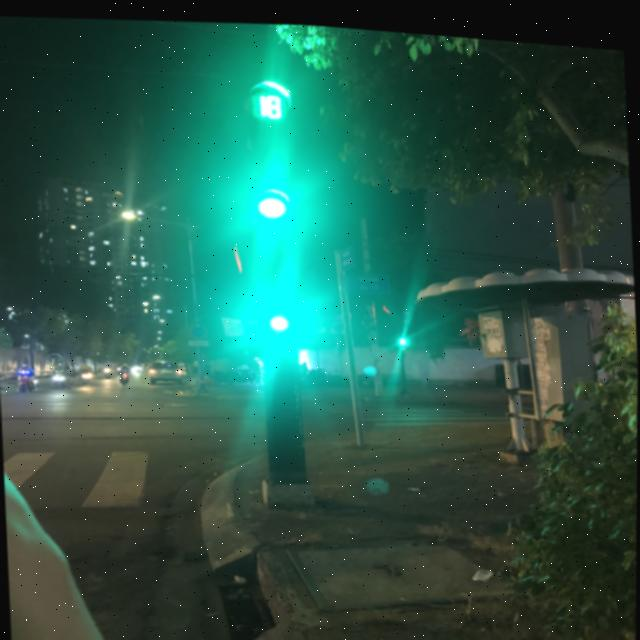Green: (249, 123, 293, 219), (265, 276, 296, 335)
